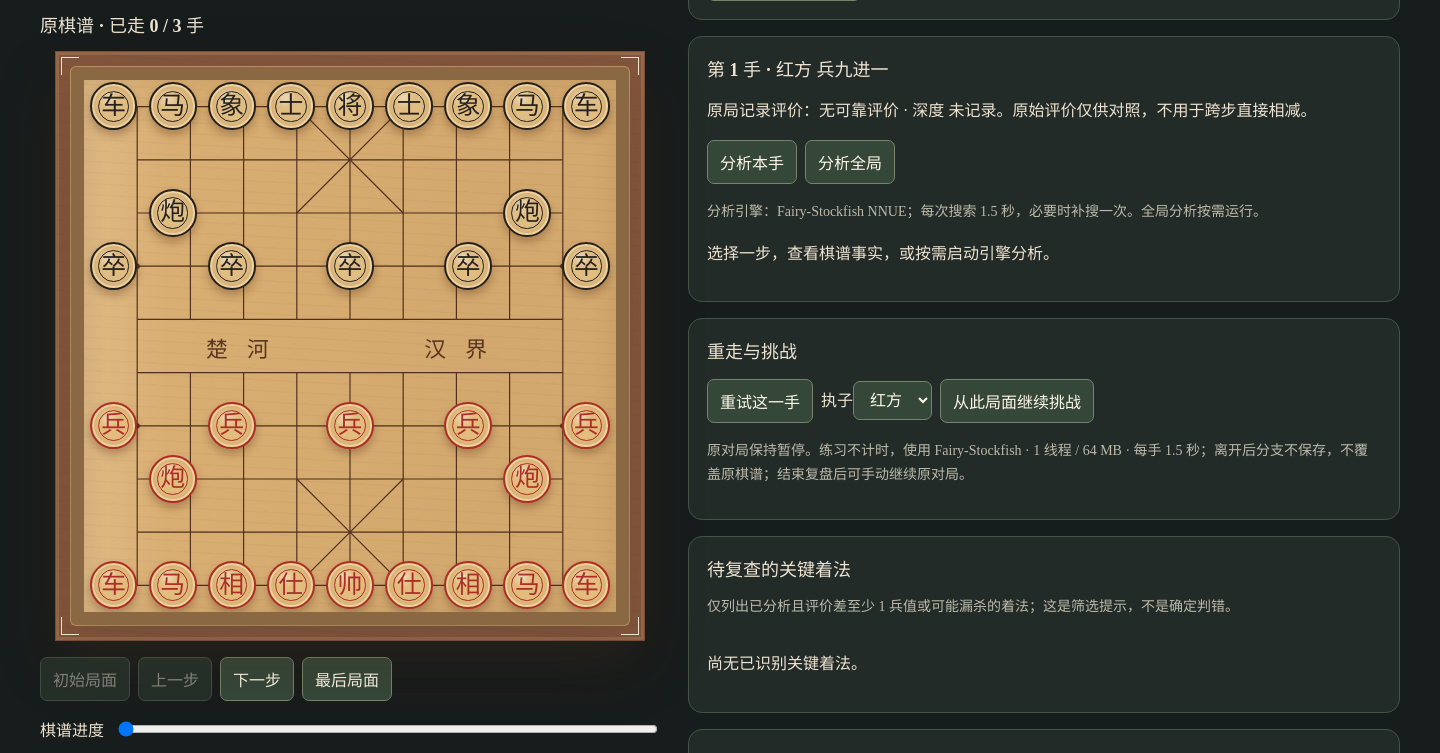
it: 离开练习局面后迟到的 AI 应手不能改写原谱棋盘
The width and height of the screenshot is (1440, 753).
(page scrolled)
Select "黑方" in the dropdown named "练习执子" at (892, 401), box [853,381,932,420]
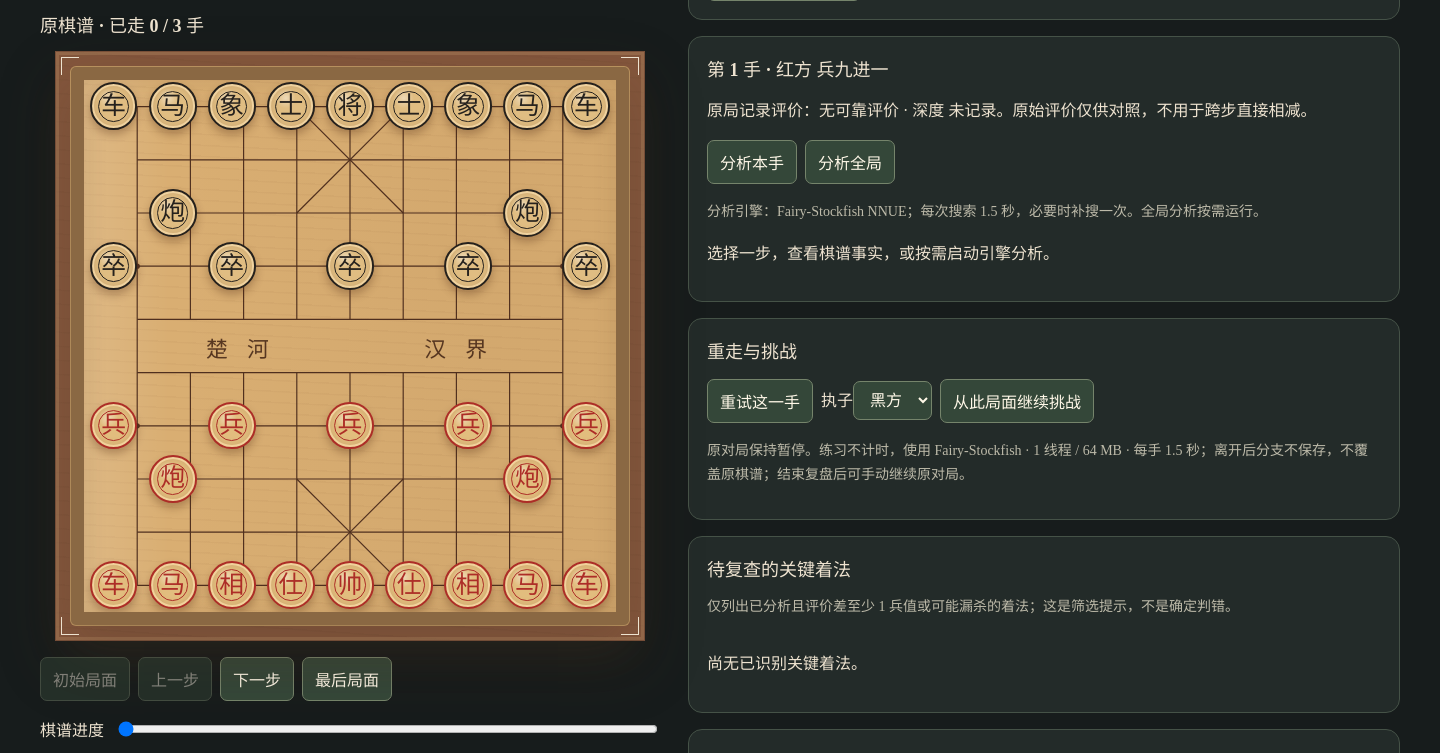
Click the button "从此局面继续挑战" at (1017, 401), box [940,379,1094,423]
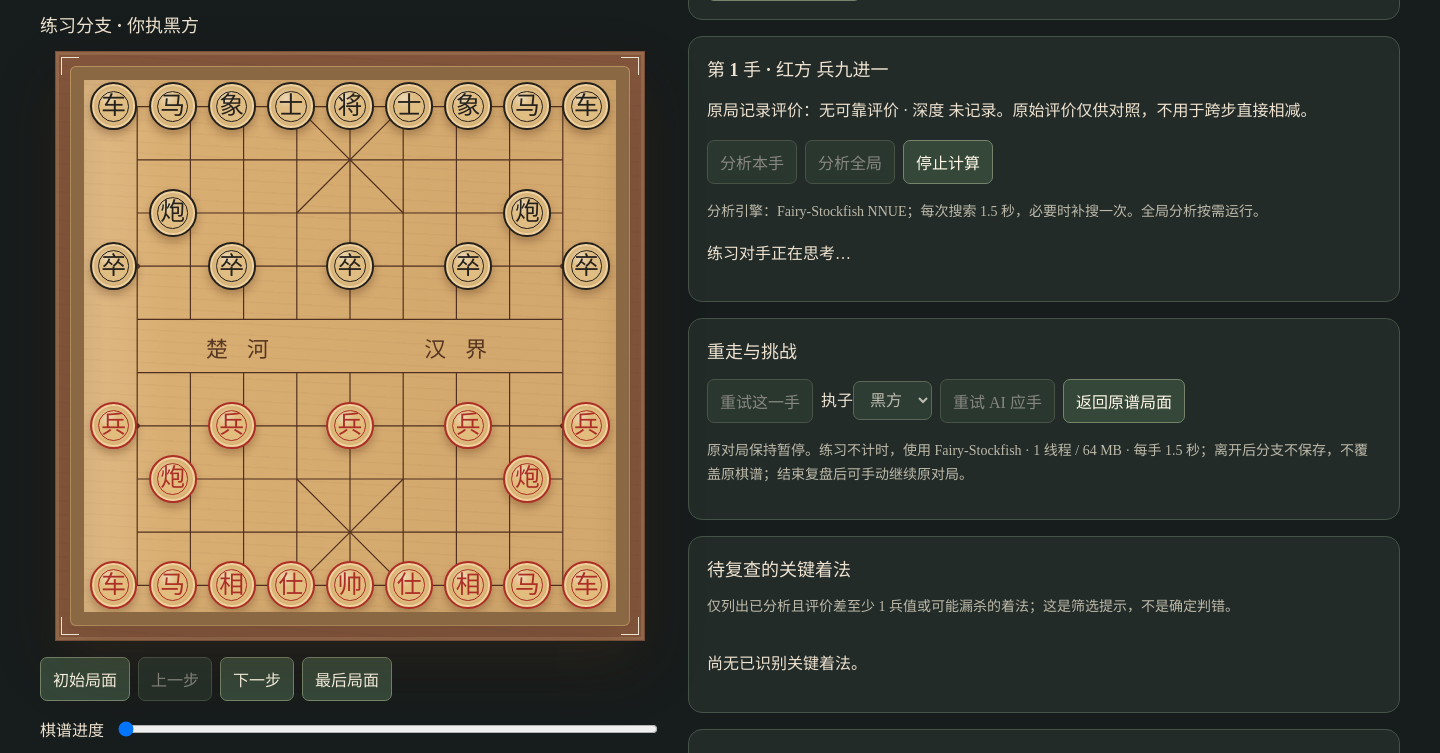
Click the button "下一步" at (257, 679), box [220,657,294,701]
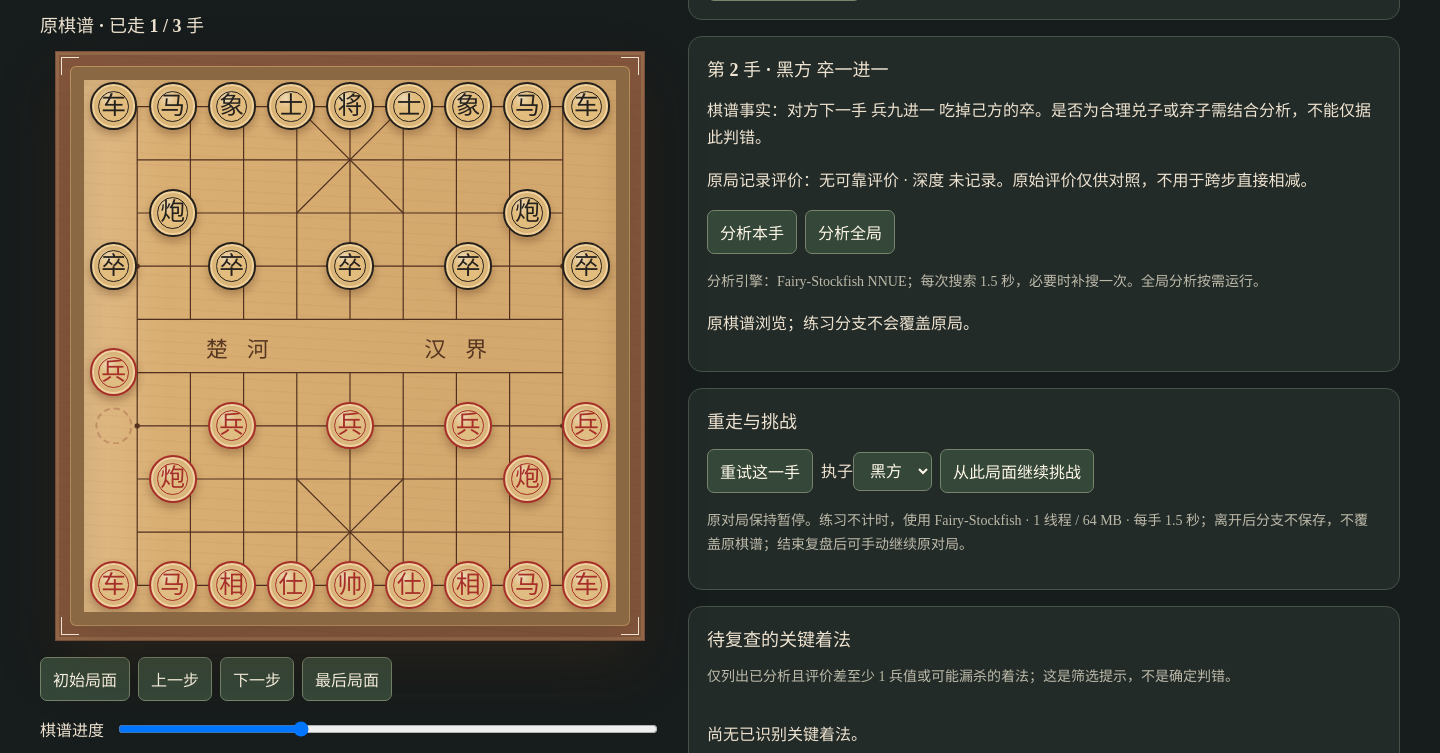
Check: the heading "原棋谱 · 已走 1 / 3 手" is shown, box [40,16,204,36]
